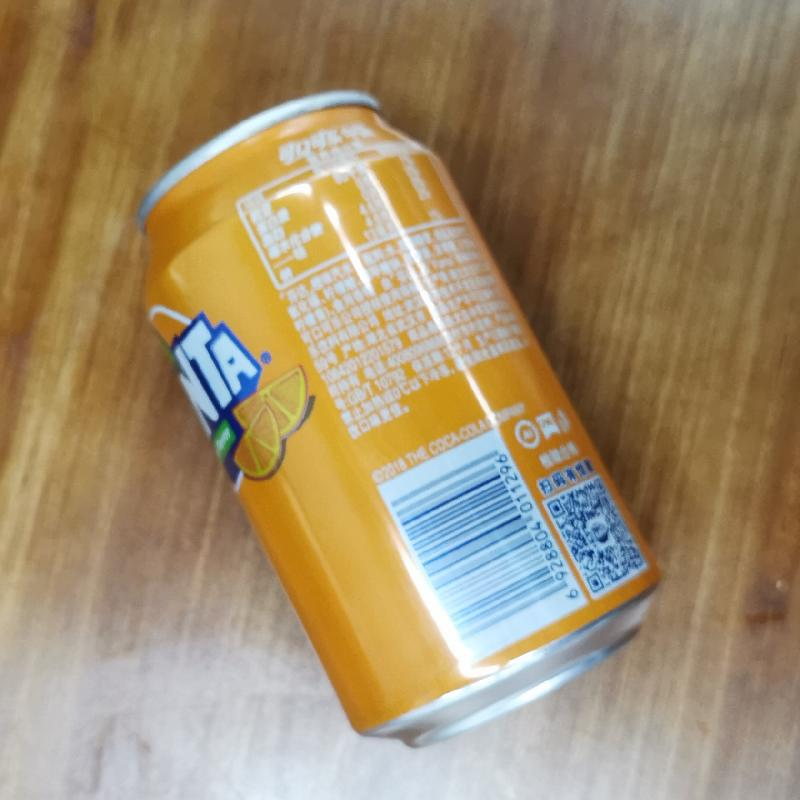cans: (124, 88, 665, 748)
